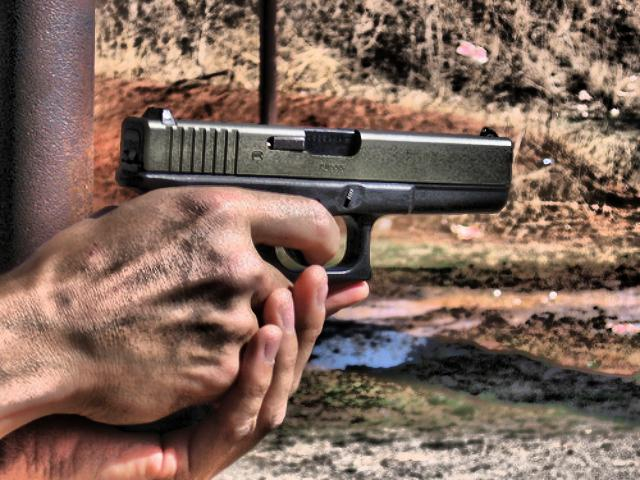pistol: (98, 104, 516, 434)
